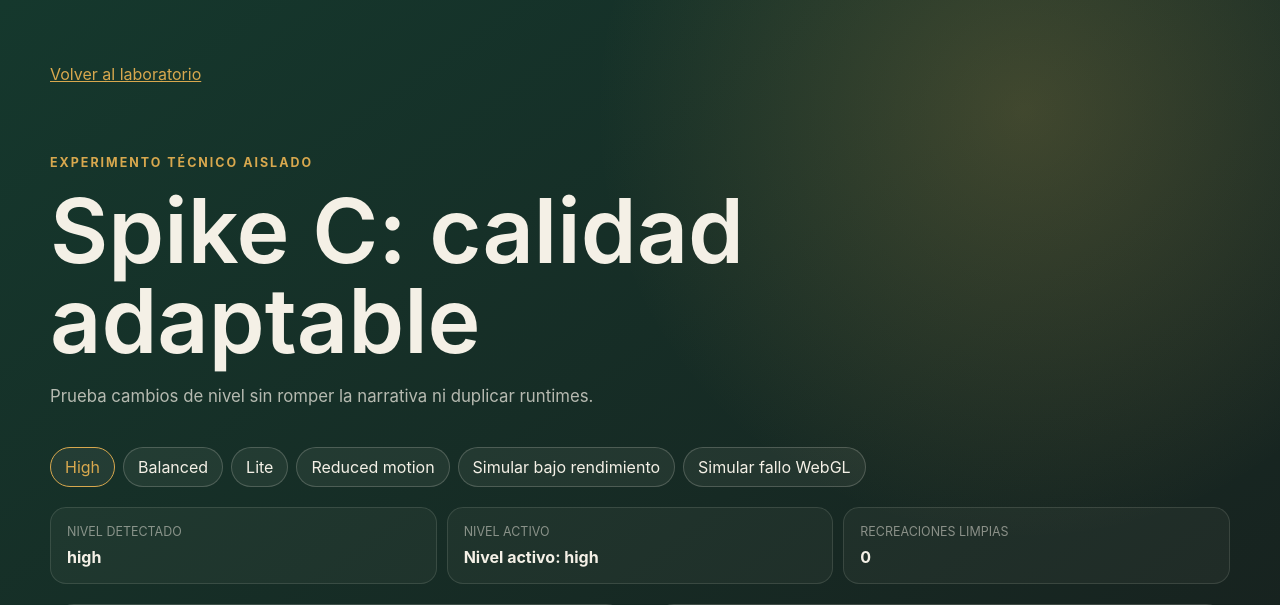
AdaptiveSpike › downgrades after simulated low performance
Click the button "Simular bajo rendimiento": coordinates (566, 467) left=458, top=447, right=675, bottom=487
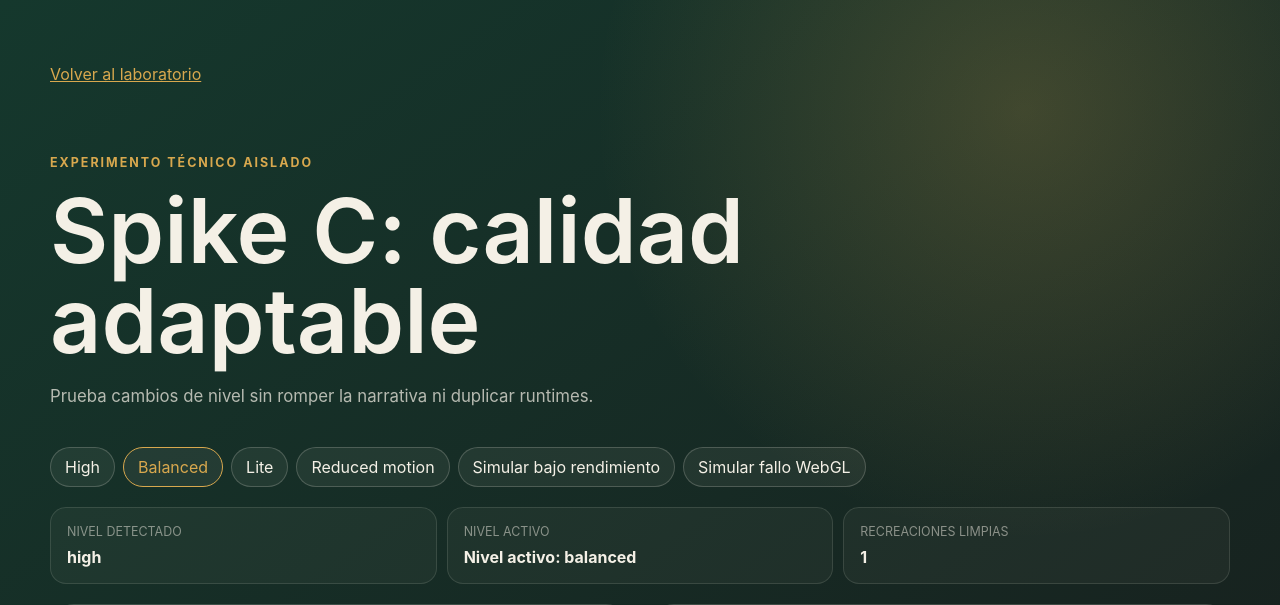
Expected: the text "Nivel activo: balanced" is shown, left=464, top=547, right=636, bottom=567
